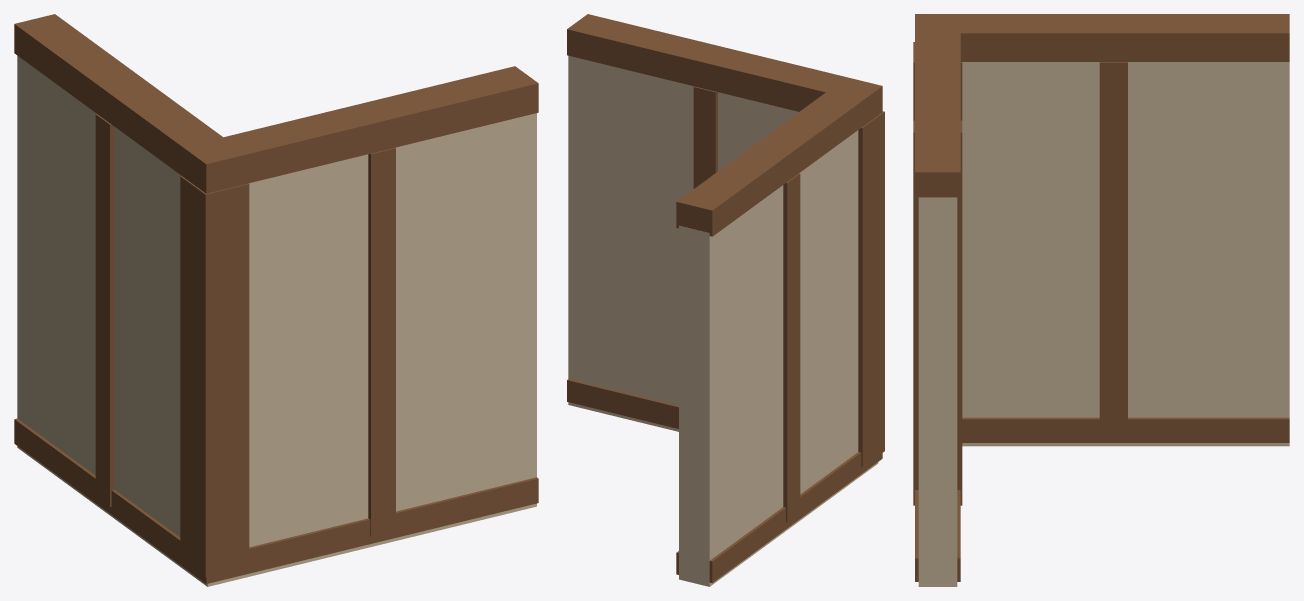
The picture shows the model from 3 angles, left to right: view 1: azimuth 30°, elevation 25°; view 2: azimuth 150°, elevation 25°; view 3: azimuth 270°, elevation 25°; orthographic projection. The views are drawn at different scales.
Visible parts, largest first — view 1: village-l-corner-wall-2m-01; view 2: village-l-corner-wall-2m-01; view 3: village-l-corner-wall-2m-01.
Part boxes in pixels (bbox=[...]): village-l-corner-wall-2m-01: bbox=[14, 14, 538, 586]; village-l-corner-wall-2m-01: bbox=[567, 14, 884, 586]; village-l-corner-wall-2m-01: bbox=[913, 14, 1289, 586].
Size of the model in its own units: 2.14 by 2.6 by 2.14.
